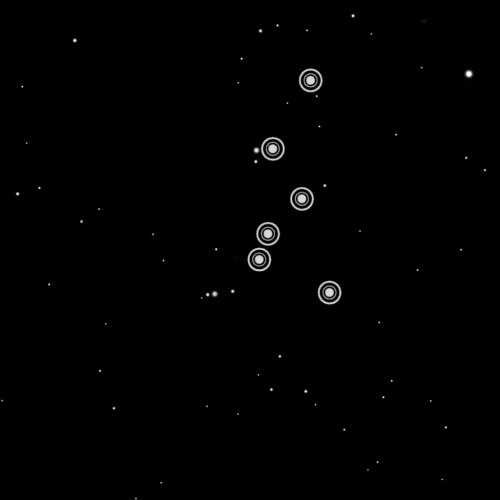cassiopeia: (240, 60, 347, 312)
